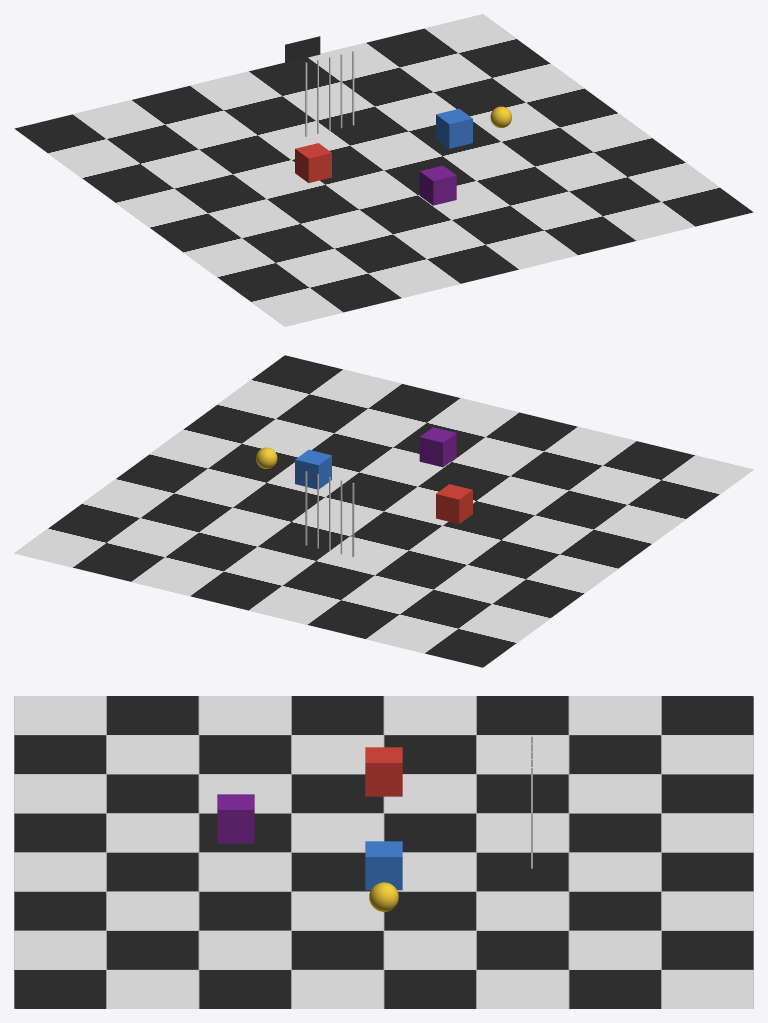
Rendered from temporal-lab.scene.gltf.
3 renders of one model, top to bottom at view 1: azimuth 30°, elevation 25°; view 2: azimuth 150°, elevation 25°; view 3: azimuth 270°, elevation 25°, orthographic. The views are drawn at different scales.
Parts seen in each view (by area): view 1: temporal-lab floor, temporal-lab invalid cube, temporal-lab reference cube, temporal-lab rotating cube, temporal-lab emissive sign; view 2: temporal-lab floor, temporal-lab invalid cube, temporal-lab rotating cube, temporal-lab reference cube; view 3: temporal-lab floor, temporal-lab rotating cube, temporal-lab invalid cube, temporal-lab reference cube, temporal-lab orbit sphere.
Boxes of the visible parts, bbox=[...] form: temporal-lab floor: bbox=[14, 14, 753, 326]; temporal-lab invalid cube: bbox=[419, 165, 456, 205]; temporal-lab reference cube: bbox=[436, 108, 472, 148]; temporal-lab rotating cube: bbox=[295, 143, 331, 182]; temporal-lab emissive sign: bbox=[285, 36, 320, 62]; temporal-lab floor: bbox=[14, 355, 753, 667]; temporal-lab invalid cube: bbox=[419, 427, 456, 467]; temporal-lab rotating cube: bbox=[436, 484, 472, 523]; temporal-lab reference cube: bbox=[295, 449, 331, 489]; temporal-lab floor: bbox=[14, 696, 753, 1008]; temporal-lab rotating cube: bbox=[365, 747, 402, 796]; temporal-lab invalid cube: bbox=[217, 794, 254, 843]; temporal-lab reference cube: bbox=[365, 841, 402, 890]; temporal-lab orbit sphere: bbox=[369, 882, 398, 911].
Size of the model in its own units: 20 by 3 by 20.
Materials: 7 (1 with a texture image).
